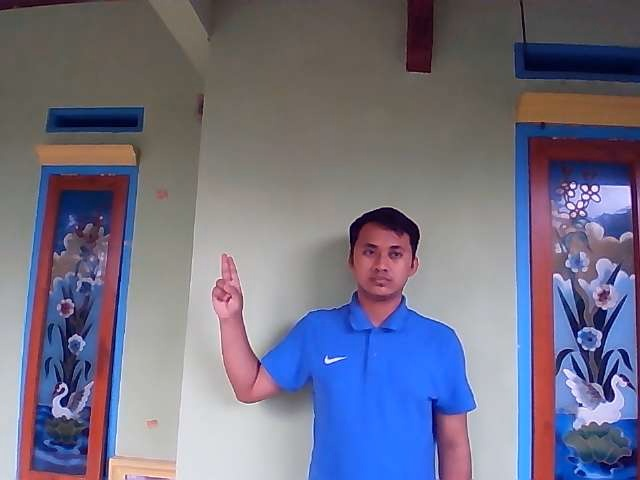U: (210, 252, 244, 318)
